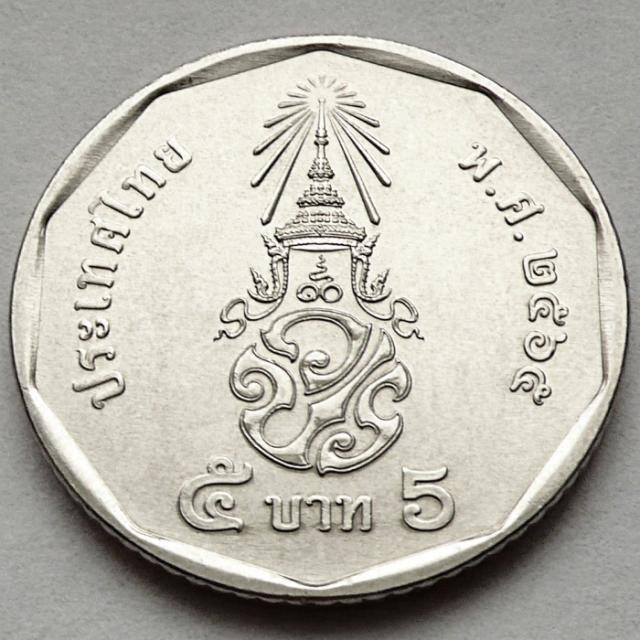5 Bath: (7, 29, 634, 618)
